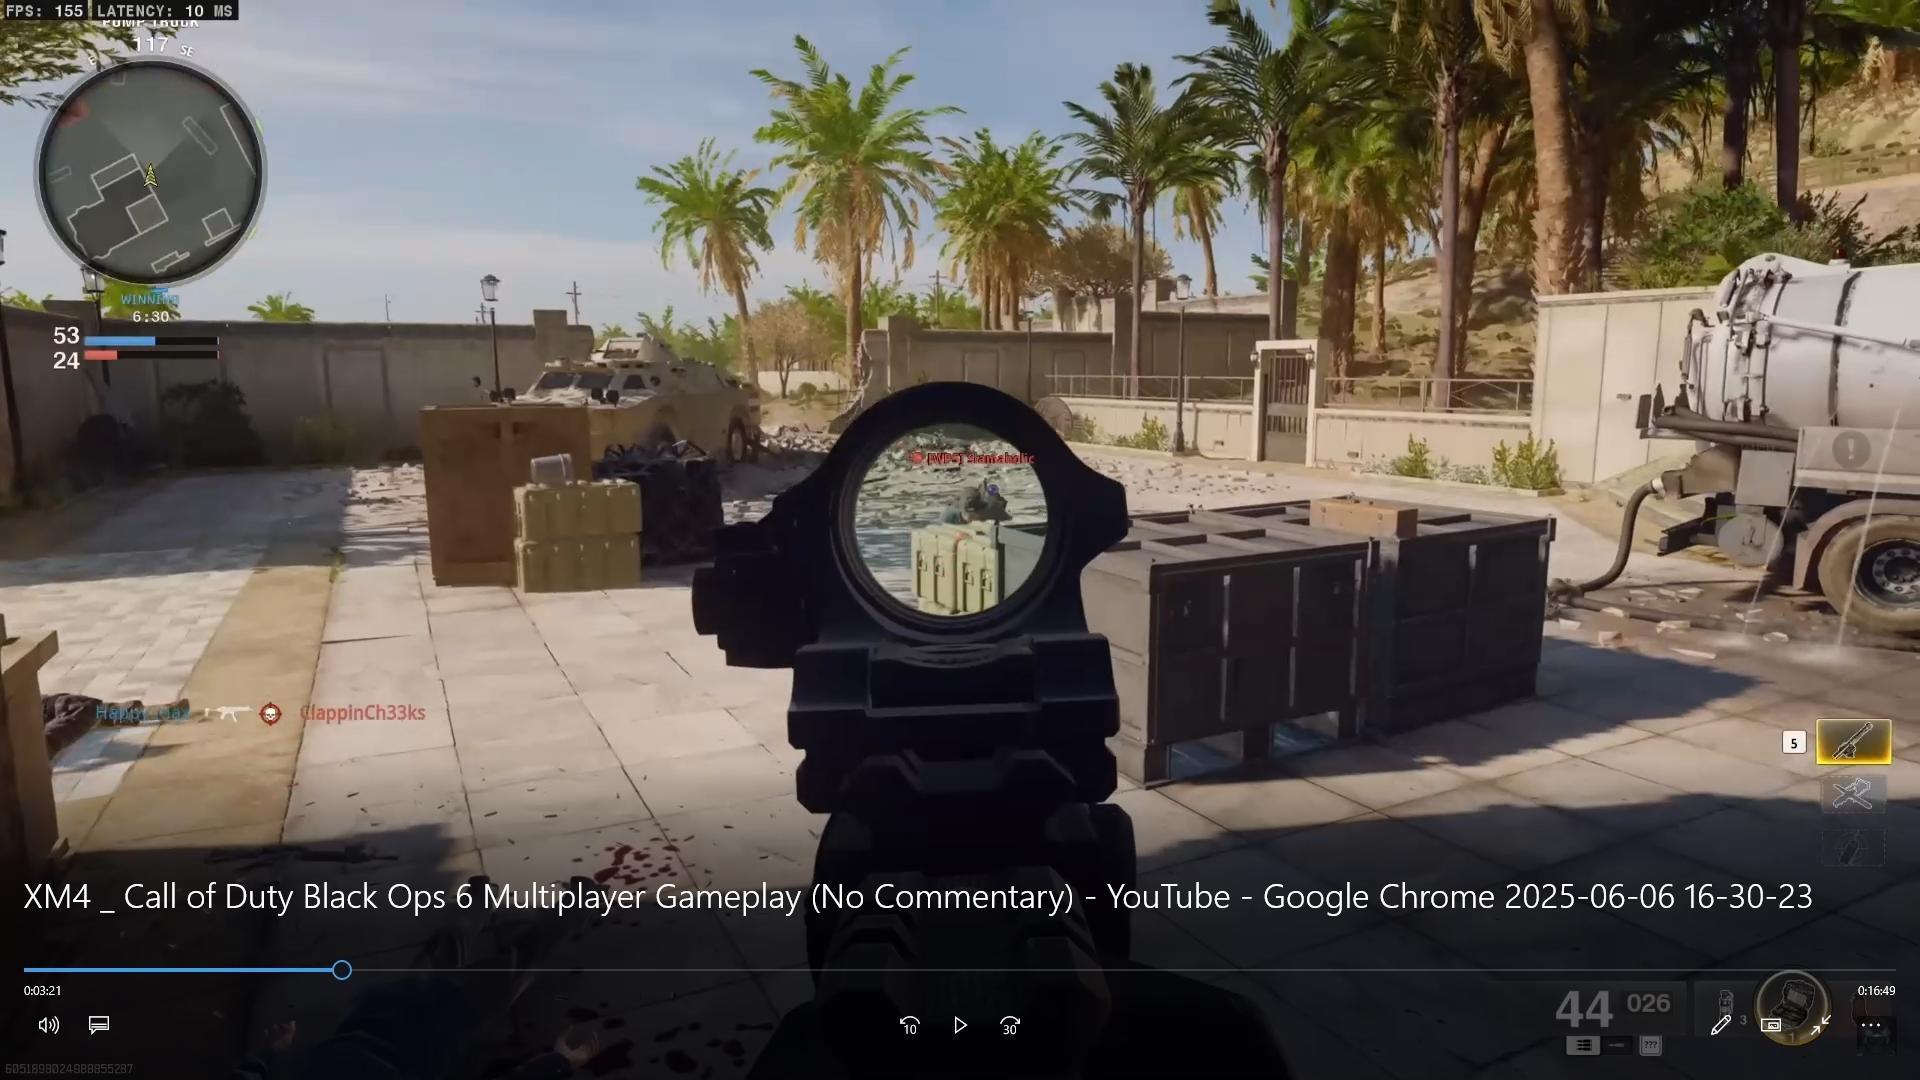Enemy: (913, 439, 1017, 525)
